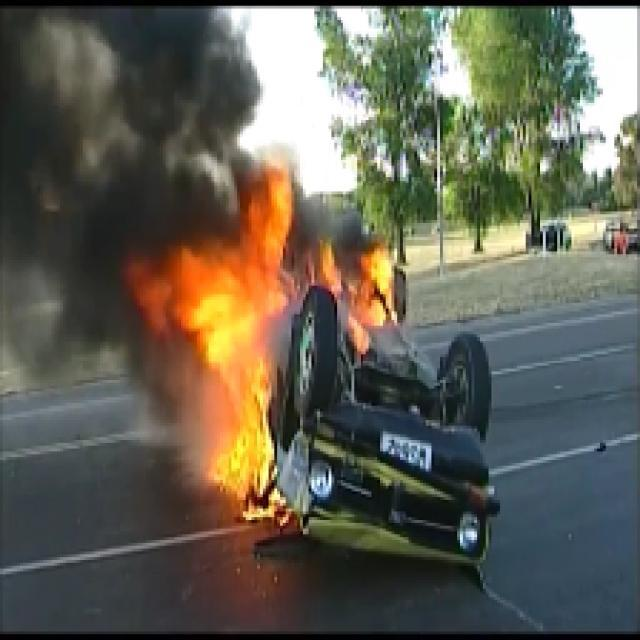Fire: (144, 237, 292, 500)
Smoke: (8, 9, 230, 233), (70, 244, 124, 339)
